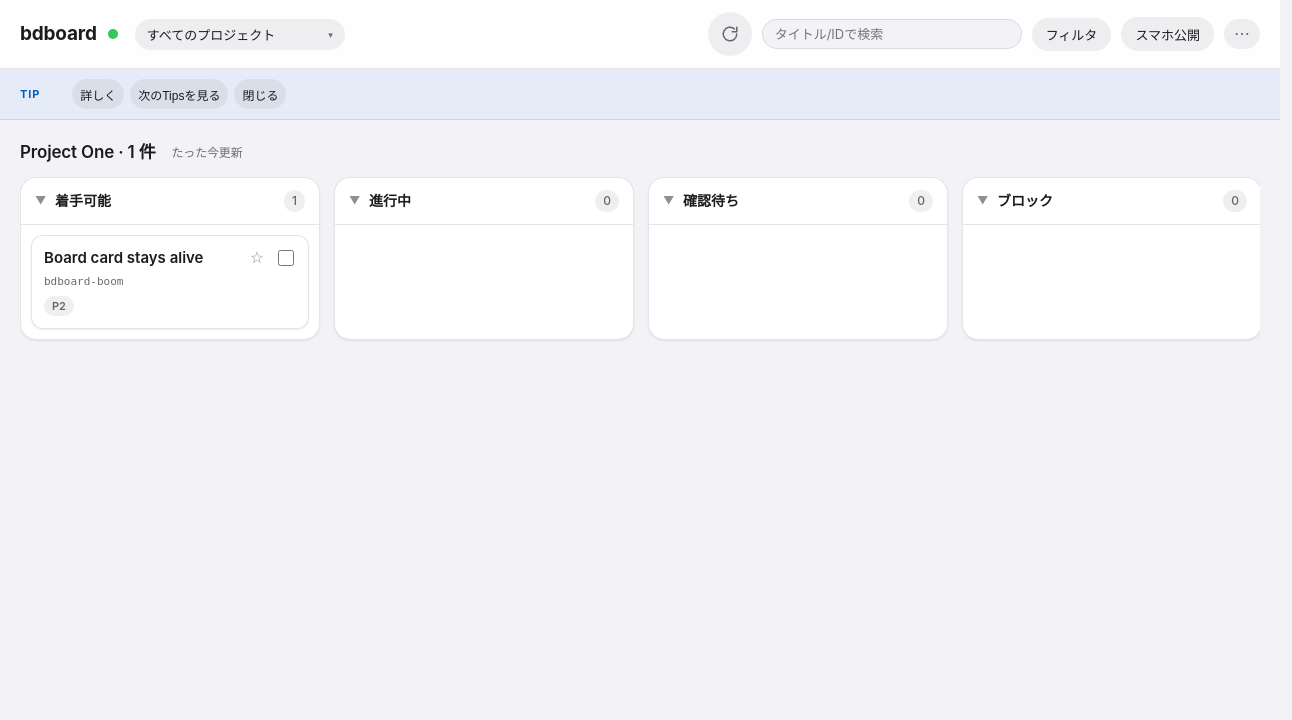
Scenario: App error boundaries (bdboard-yfq) › keeps the bulk selection when the view changes
Expected: the option titled "Board card stays alive" is shown, [31,235,309,329]
Click the checkbox named "bdboard-boom を選択".
click(286, 258)  # box [278,250,294,266]
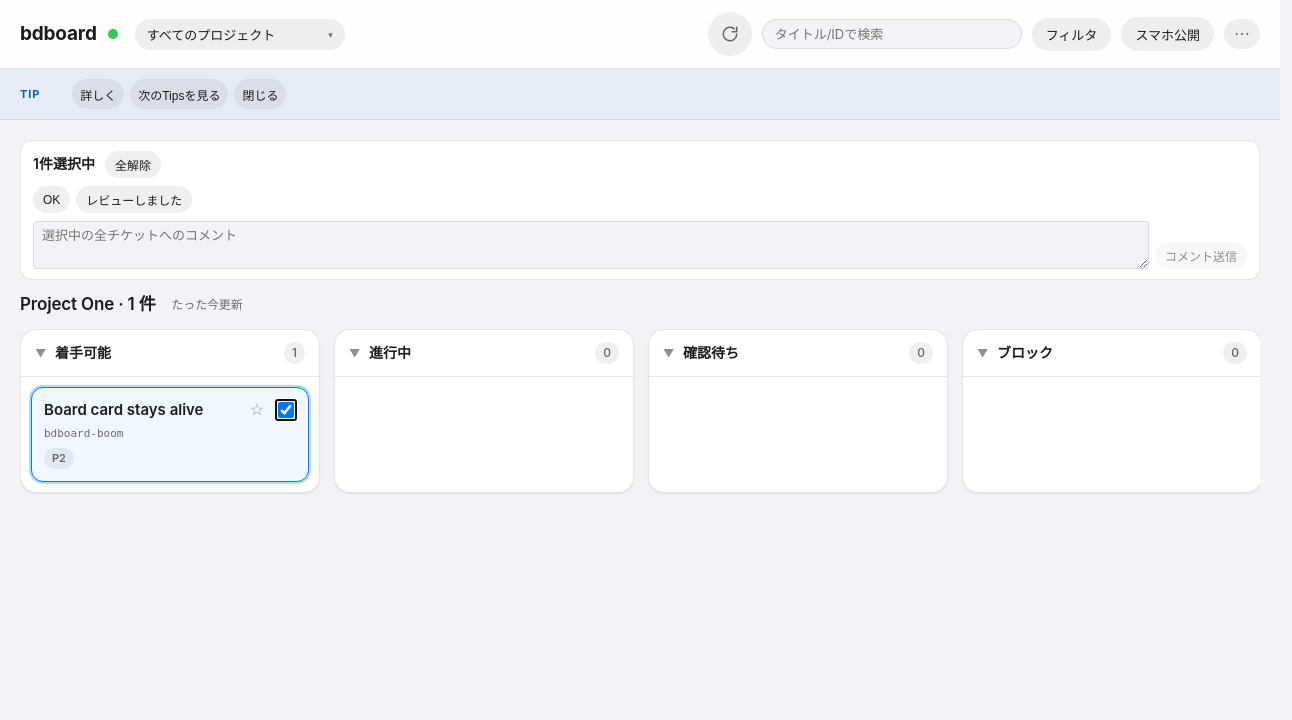
Now the checkbox named "bdboard-boom を選択" is checked, box [278,402,294,418]
Click the button named "その他のメニュー".
click(1242, 34)  # box [1224,19,1260,49]
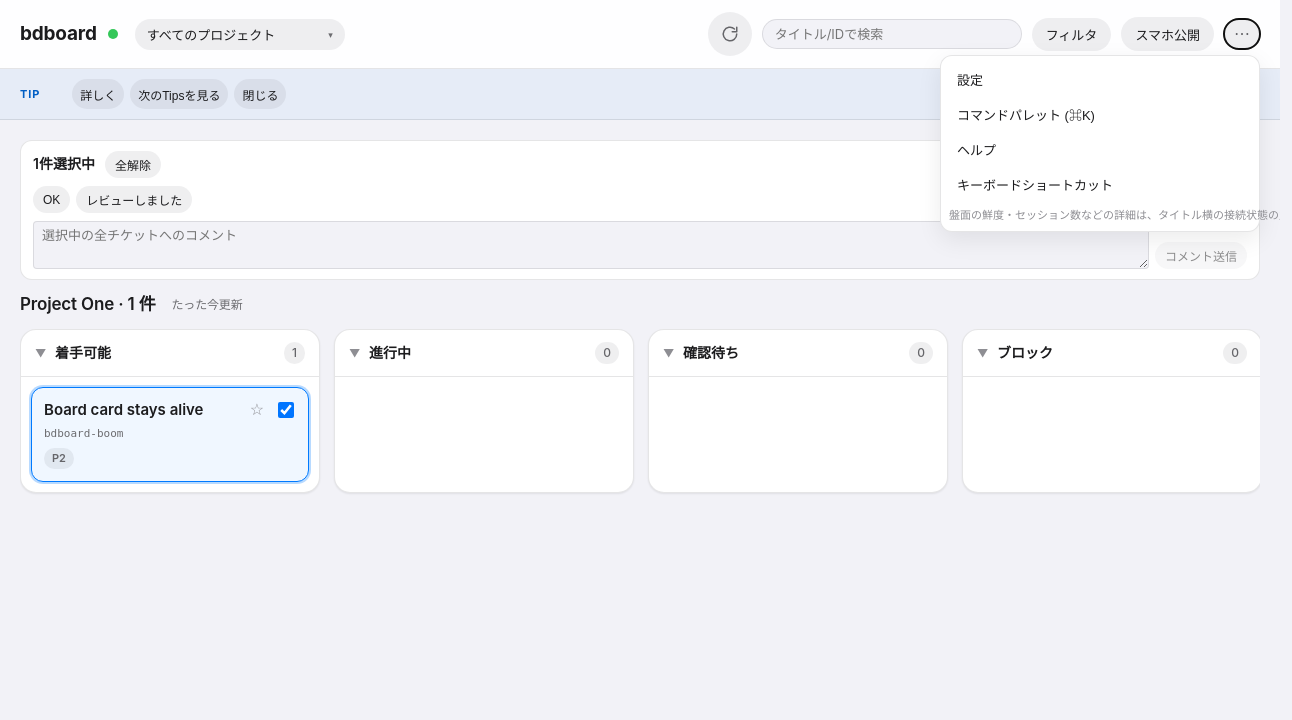
Click the menu item "設定".
click(970, 80)  # box [947,62,1253,97]
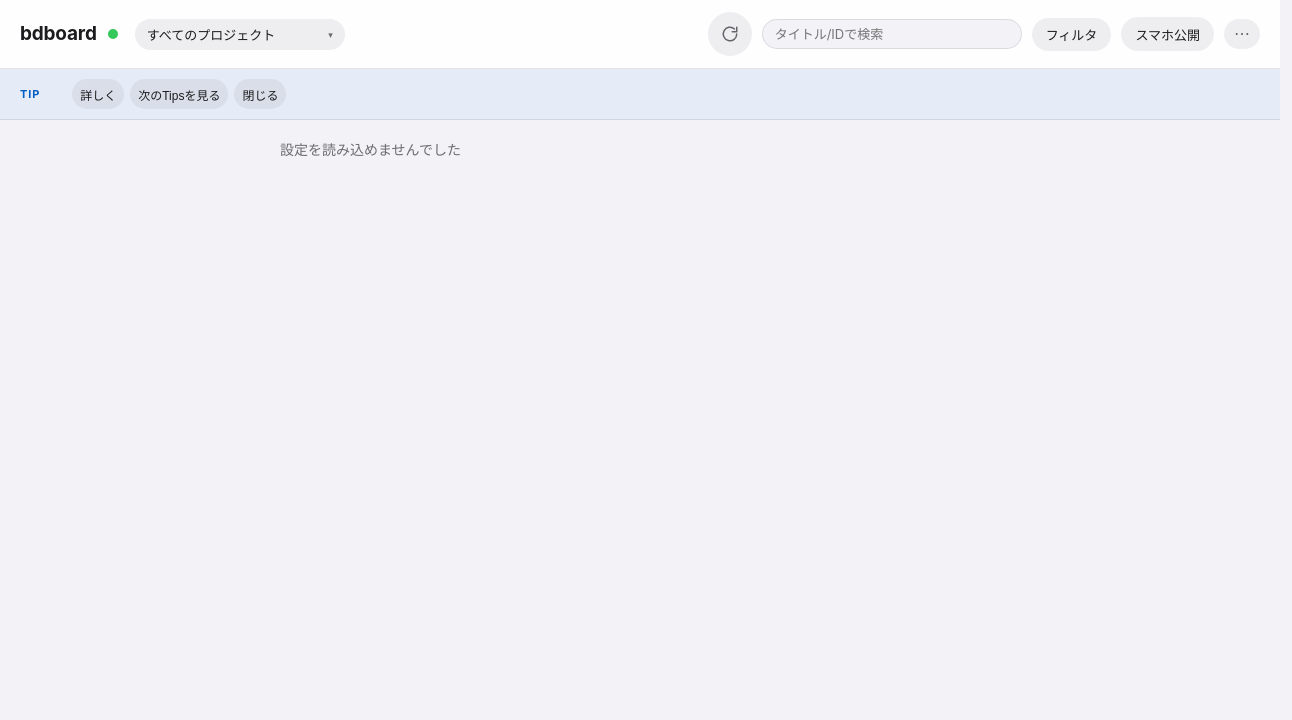
Click the button named "その他のメニュー".
click(1242, 34)  # box [1224,19,1260,49]
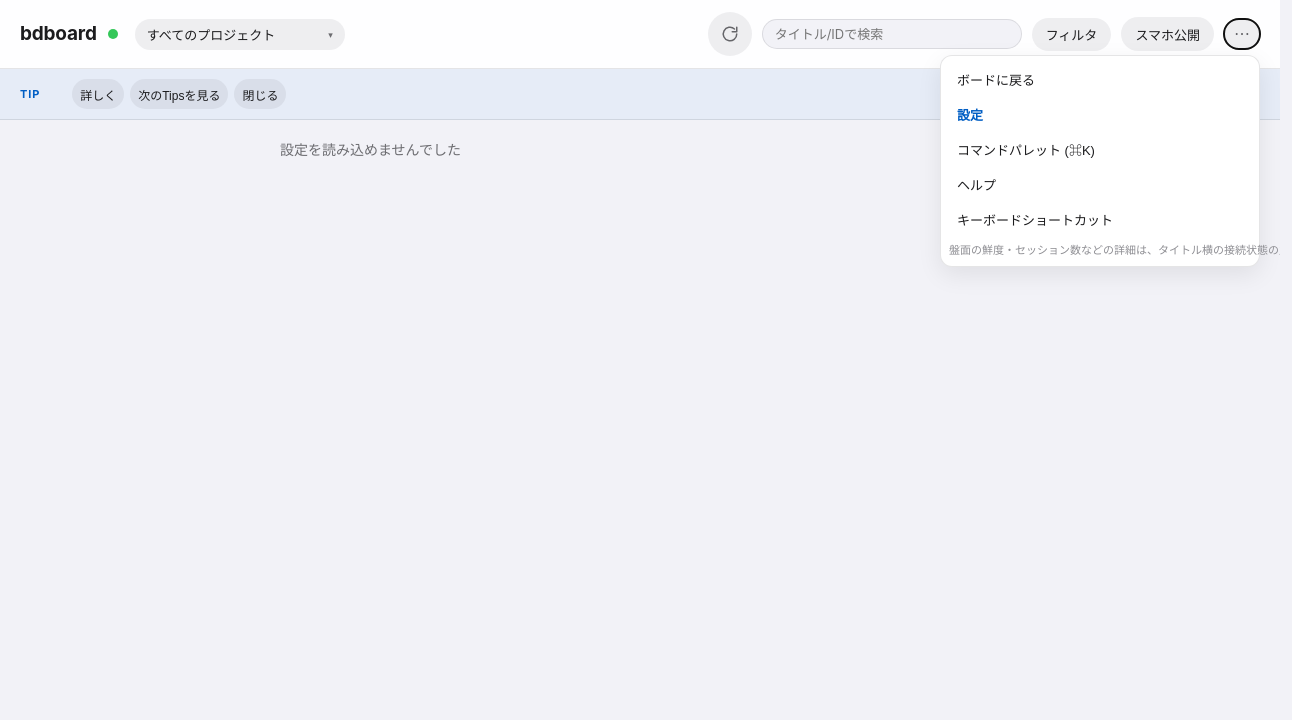
Click the menu item "ボードに戻る".
click(996, 80)  # box [947,62,1253,97]
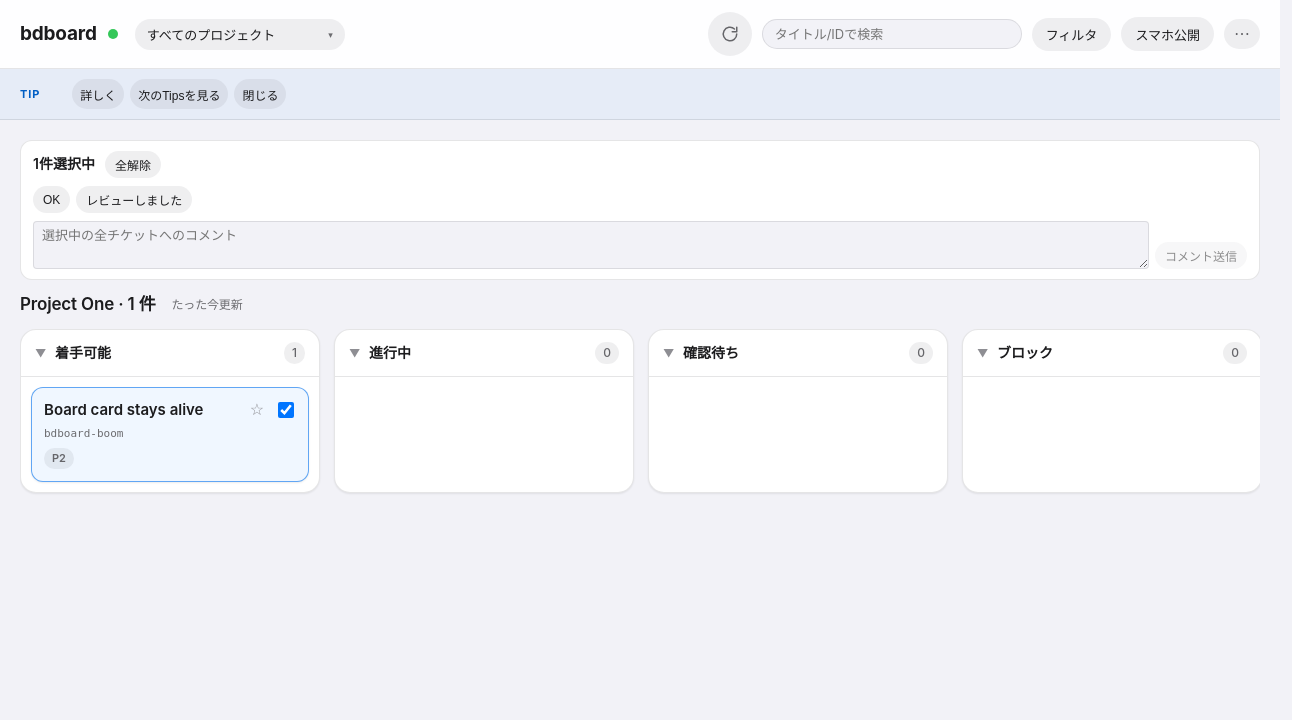
Now the option titled "Board card stays alive" is shown, box [31,387,309,482]
Now the checkbox named "bdboard-boom を選択" is checked, box [278,402,294,418]
